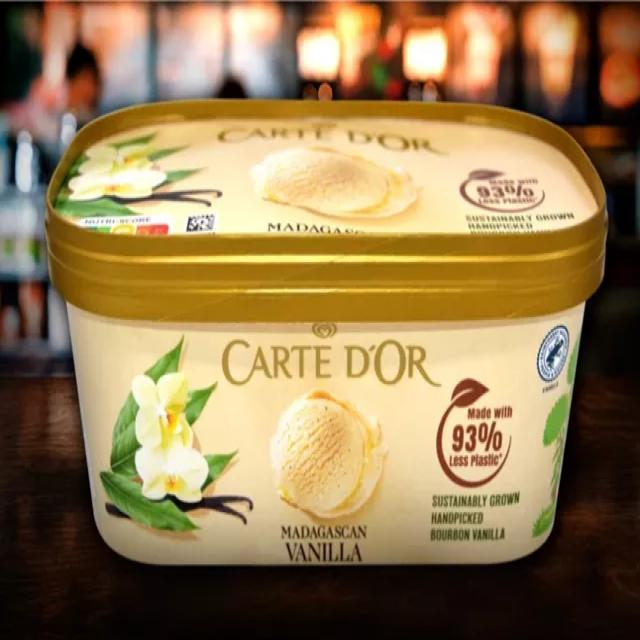plastic: (44, 94, 608, 570)
